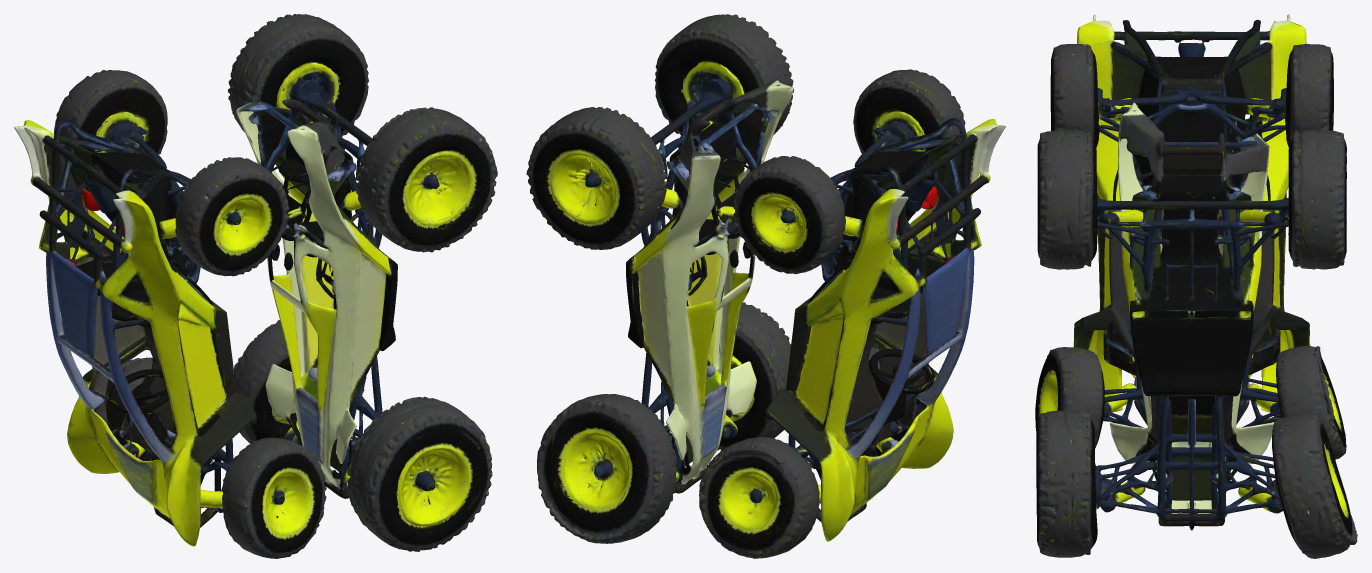
The model's file is buggy.glb.
3 renders of one model, left to right at view 1: azimuth 30°, elevation 25°; view 2: azimuth 150°, elevation 25°; view 3: azimuth 270°, elevation 25°, orthographic.
Parts seen in each view (by area): view 1: body; view 2: body; view 3: body.
Boxes of the visible parts, x1=… form: body: x1=14, y1=14, x2=497, y2=558; body: x1=526, y1=14, x2=1006, y2=558; body: x1=1035, y1=14, x2=1357, y2=558.
Size of the model in its own units: 1.04 by 1.18 by 0.8204.
1 material, 1 textured.
